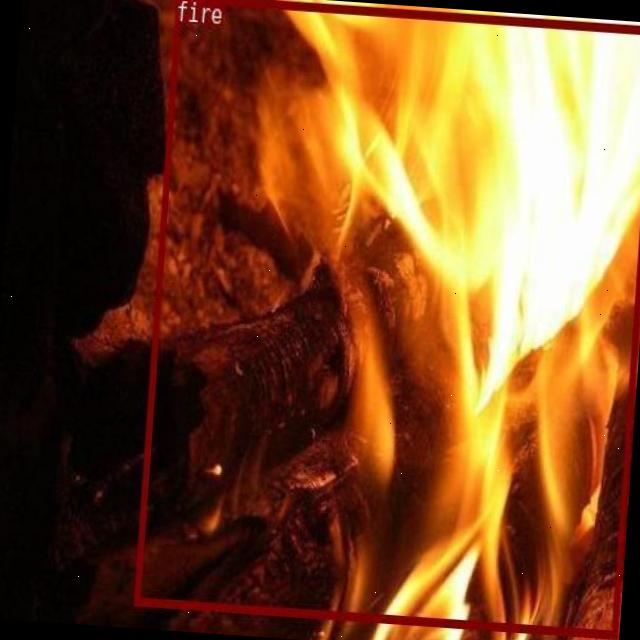fire: (132, 0, 640, 637)
